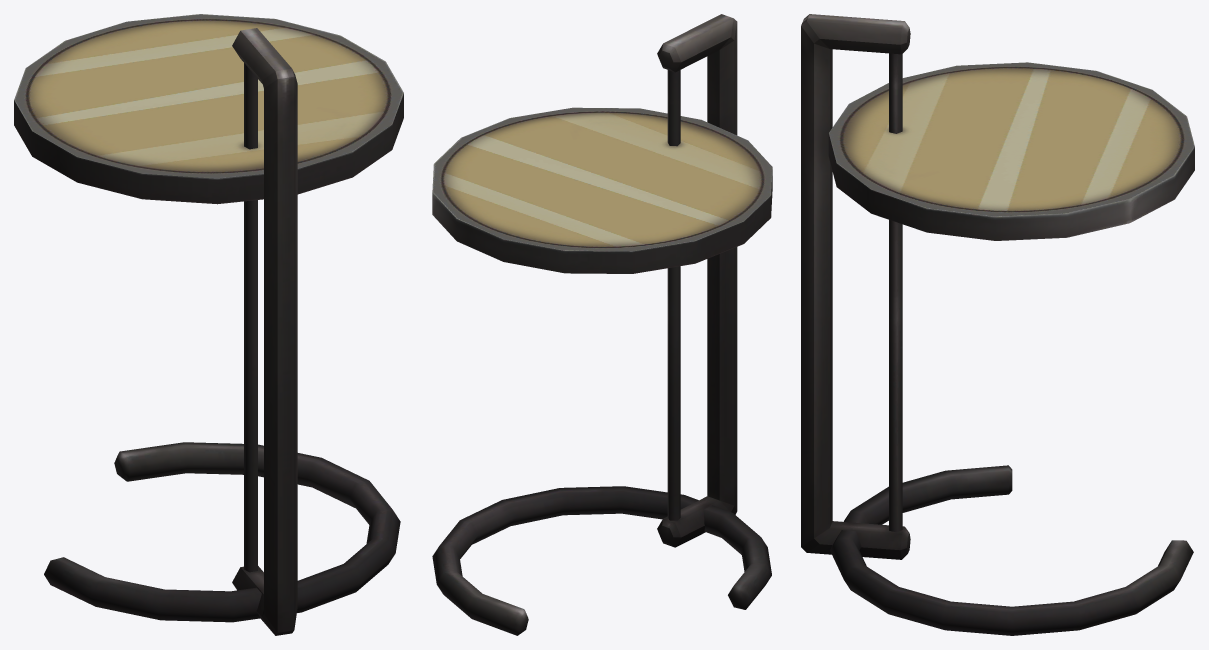
File: furn_we2021_table_001.gltf
The picture shows the model from 3 angles, left to right: view 1: azimuth 30°, elevation 25°; view 2: azimuth 150°, elevation 25°; view 3: azimuth 270°, elevation 25°; orthographic projection. The views are drawn at different scales.
Visible parts, largest first — view 1: we2021_table_001; view 2: we2021_table_001; view 3: we2021_table_001.
Boxes of the visible parts, bbox=[...] form: we2021_table_001: bbox=[14, 14, 403, 635]; we2021_table_001: bbox=[432, 14, 772, 635]; we2021_table_001: bbox=[801, 14, 1194, 635].
Bounding box in the file's own units: 0.2989 × 0.479 × 0.3215.
Materials: 1 (1 with a texture image).
